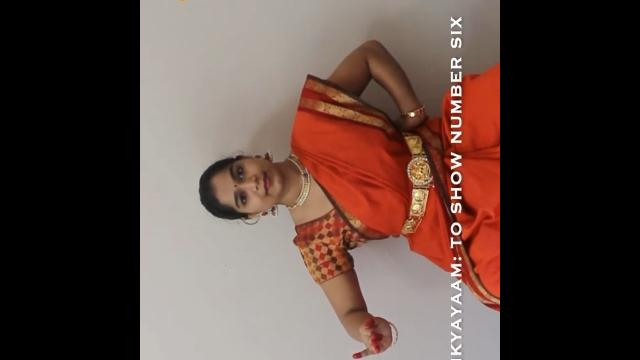Hamsapaksha: (334, 304, 406, 360)
